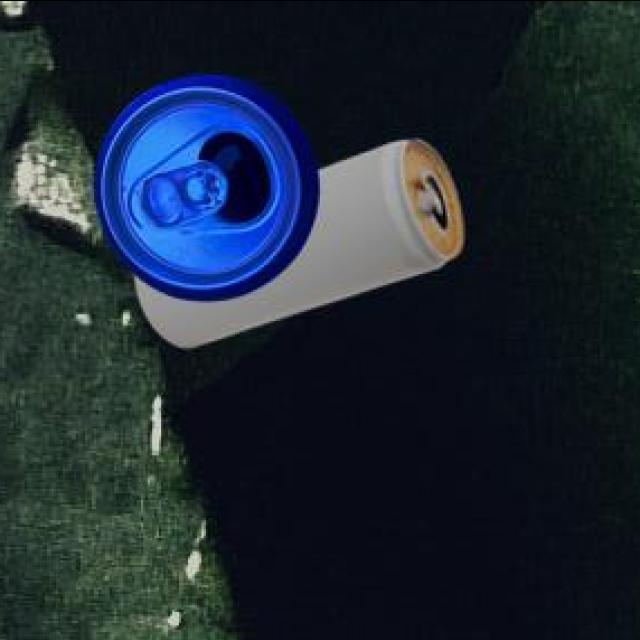logam: (132, 142, 460, 350), (91, 77, 317, 303)
